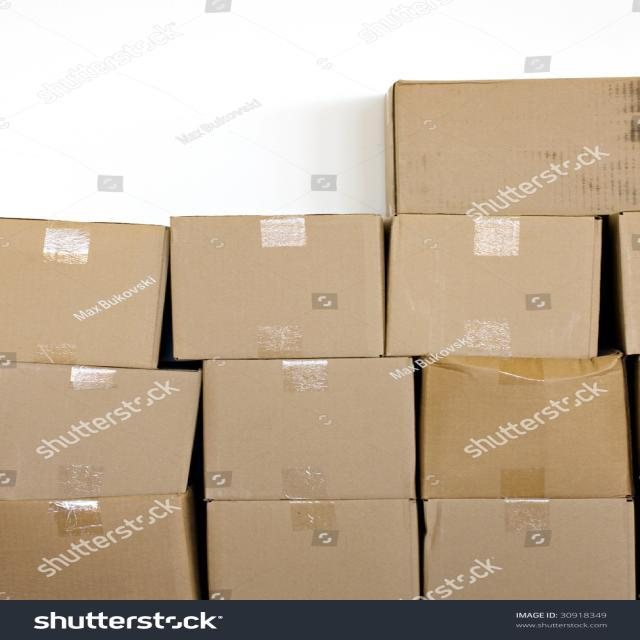BoxFace: (390, 75, 640, 215), (388, 214, 605, 360), (420, 354, 634, 500), (198, 358, 416, 501), (172, 212, 385, 356), (0, 366, 201, 501), (0, 216, 166, 370), (204, 499, 422, 604), (422, 498, 638, 600), (0, 492, 199, 596)
